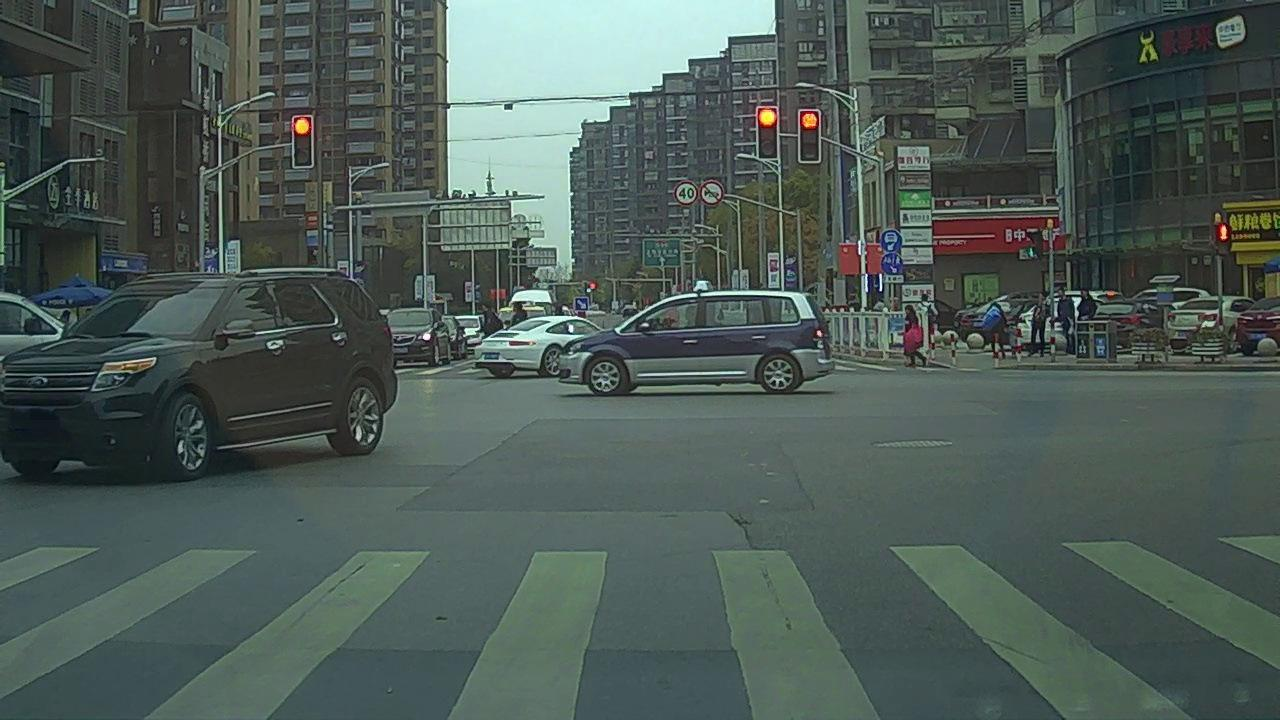traffic_light: (799, 107, 823, 161), (292, 112, 315, 165), (758, 108, 780, 159)
